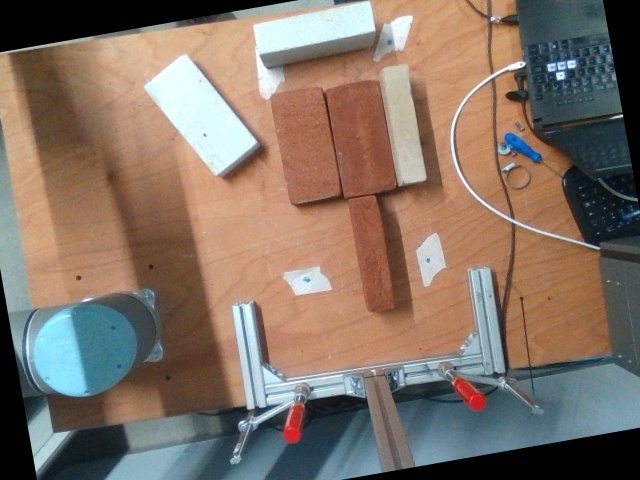brick: (145, 54, 257, 174), (326, 80, 396, 195), (272, 86, 338, 202)
brick-side: (255, 3, 376, 53), (350, 196, 396, 311), (382, 64, 426, 182)
